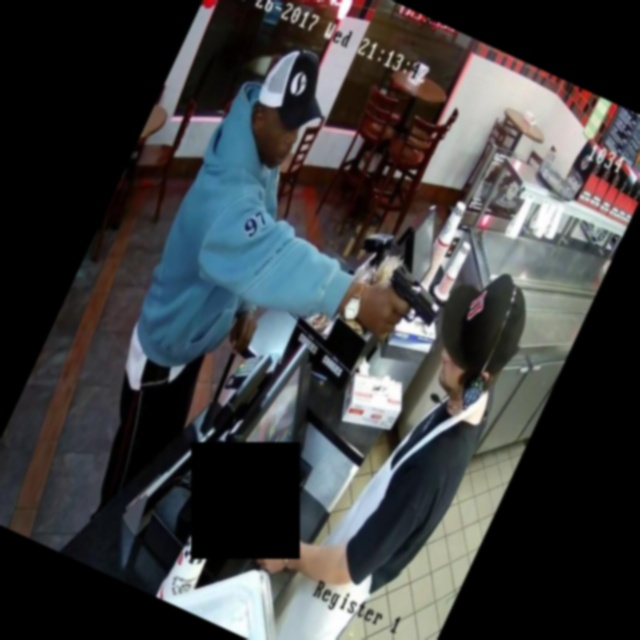gun: (365, 243, 466, 341)
